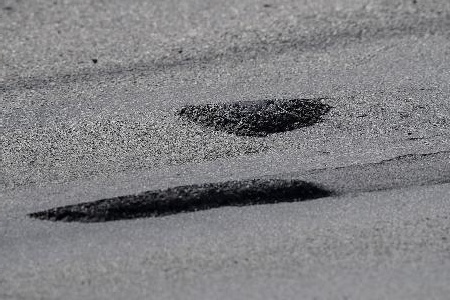pothole: (25, 175, 337, 224), (175, 94, 333, 138)
